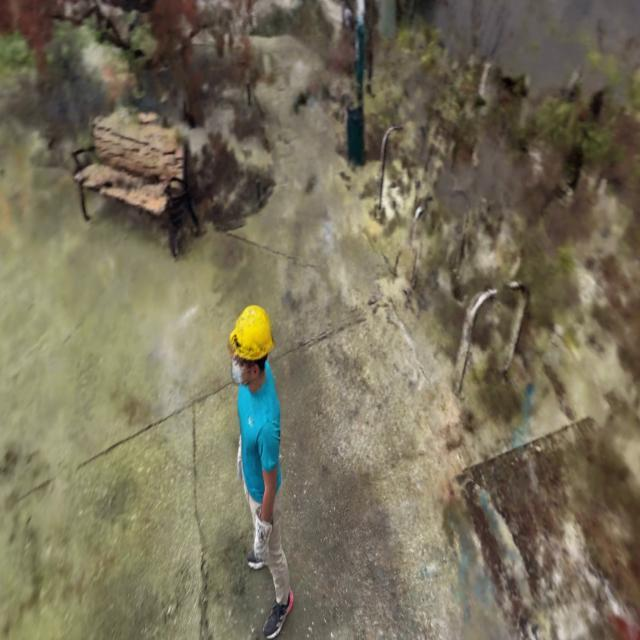gloves: (252, 511, 271, 570)
helmet: (228, 306, 275, 360)
